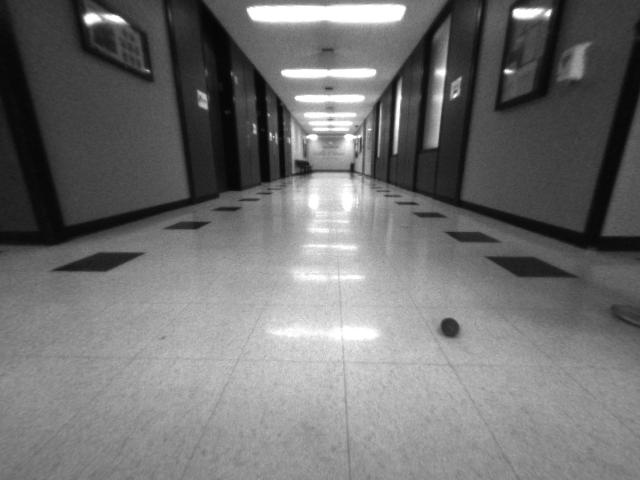dogtoy: (436, 309, 470, 341)
